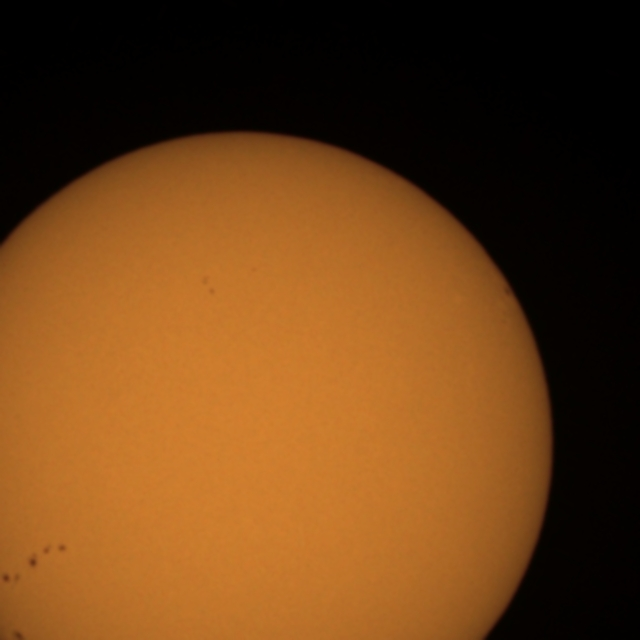sunspot: (26, 542, 68, 568), (200, 273, 217, 297), (0, 570, 22, 586), (9, 628, 27, 640)
